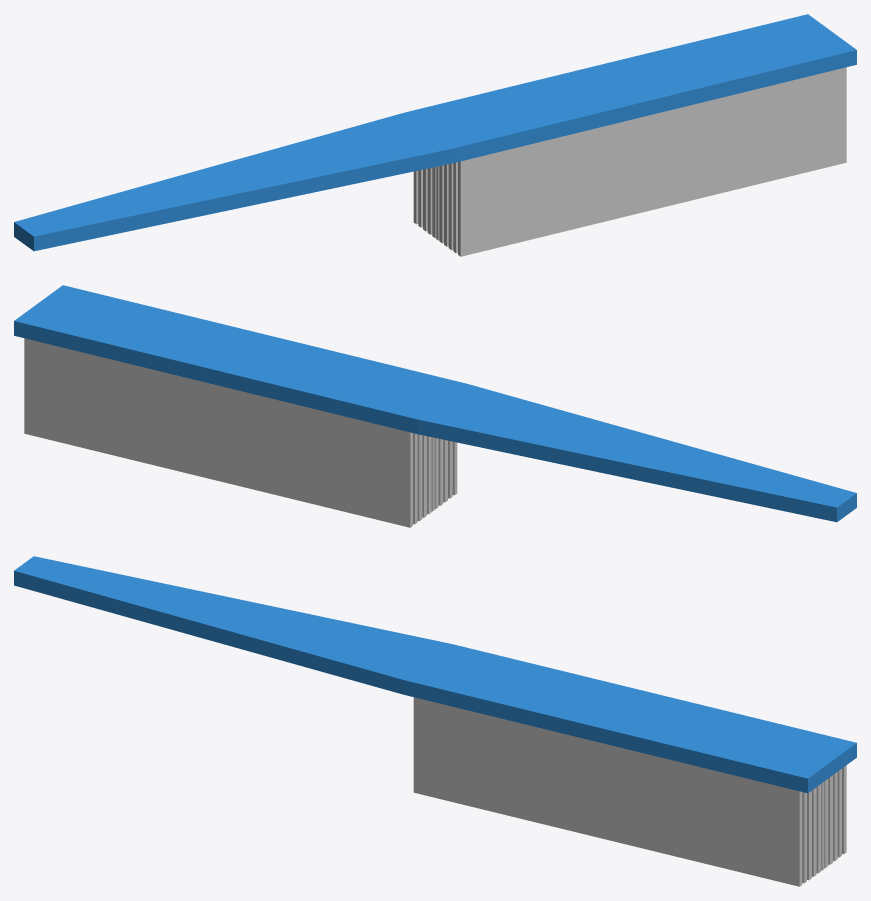
Rendered from dustpan brush.fbx.
3 views of the same model, one above another, from view 1: azimuth 30°, elevation 25°; view 2: azimuth 150°, elevation 25°; view 3: azimuth 330°, elevation 25° (orthographic).
Visible parts, largest first — view 1: Cube.006; view 2: Cube.006; view 3: Cube.006.
Part boxes in pixels (x1,y1,x2,y2): Cube.006: (14, 14, 856, 256); Cube.006: (14, 285, 856, 527); Cube.006: (14, 556, 856, 886).
Bounding box in the file's own units: 400 × 52.63 × 41.96.
